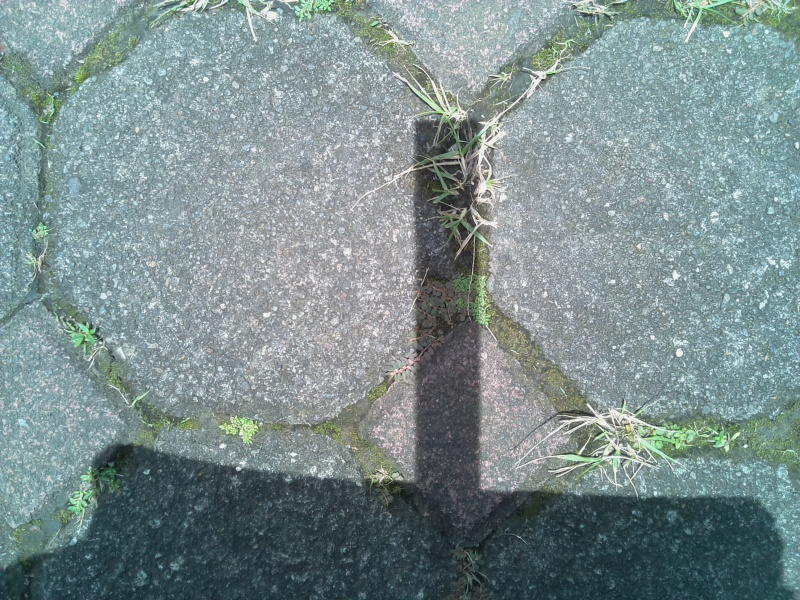Weed: (415, 80, 503, 254), (577, 401, 732, 480), (416, 273, 499, 330), (67, 457, 120, 525), (364, 467, 409, 515), (216, 409, 264, 452), (62, 318, 105, 360)
